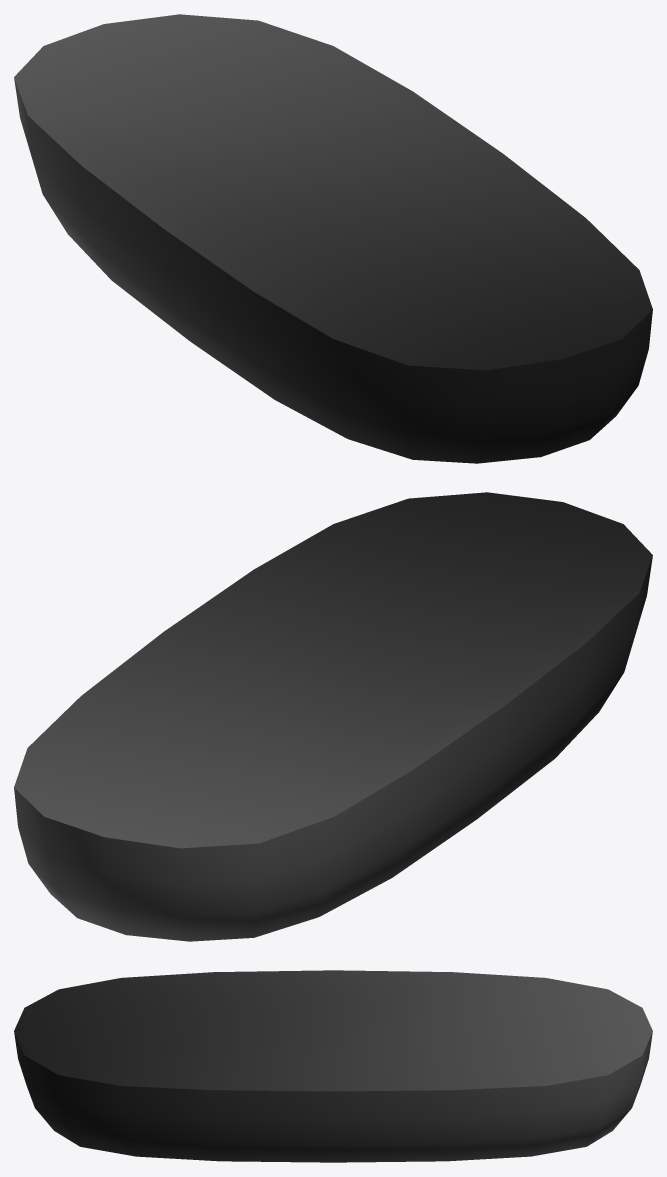
Rendered from Bread Tall Burn Half_1.fbx.
The picture shows the model from 3 angles, top to bottom: view 1: azimuth 30°, elevation 25°; view 2: azimuth 150°, elevation 25°; view 3: azimuth 270°, elevation 25°; orthographic projection. The views are drawn at different scales.
Parts seen in each view (by area): view 1: Bread Tall Burn Half_1; view 2: Bread Tall Burn Half_1; view 3: Bread Tall Burn Half_1.
Boxes of the visible parts, x1,y1,x2,y2 form: Bread Tall Burn Half_1: [14, 14, 652, 463]; Bread Tall Burn Half_1: [14, 492, 652, 941]; Bread Tall Burn Half_1: [14, 970, 652, 1162].
Bounding box in the file's own units: 0.089 × 0.031 × 0.2078.
